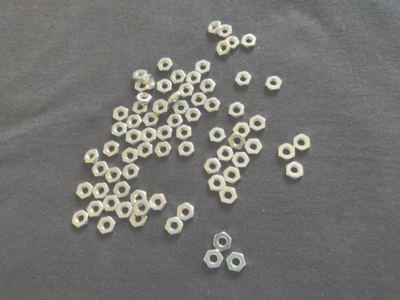nut: (227, 252, 247, 273), (204, 250, 224, 269), (165, 217, 184, 236), (214, 232, 232, 252), (208, 175, 227, 193), (98, 216, 116, 235), (177, 203, 195, 222), (293, 134, 311, 152), (220, 187, 238, 205), (76, 182, 94, 200), (130, 210, 148, 228), (223, 167, 242, 184), (149, 194, 168, 211), (279, 143, 296, 161), (228, 133, 246, 150), (204, 158, 222, 175), (114, 181, 131, 199), (72, 210, 89, 228), (130, 190, 147, 208), (232, 152, 251, 168), (102, 195, 121, 211), (133, 200, 152, 216), (287, 162, 304, 179), (217, 146, 234, 163), (176, 125, 193, 142), (116, 202, 133, 219), (103, 141, 121, 157), (123, 164, 141, 180), (250, 115, 266, 132), (229, 102, 245, 119), (204, 97, 221, 113), (153, 99, 169, 116), (209, 128, 226, 144), (178, 142, 195, 158), (84, 149, 101, 165), (105, 167, 122, 183), (93, 183, 110, 199), (87, 201, 104, 217), (265, 76, 283, 91), (233, 123, 251, 138), (245, 139, 263, 154), (195, 60, 211, 76), (113, 106, 129, 122), (157, 125, 173, 141), (141, 127, 157, 143), (138, 143, 154, 159), (122, 148, 138, 164), (235, 71, 252, 86), (185, 108, 202, 123), (143, 112, 160, 127), (112, 122, 127, 139), (155, 142, 172, 157), (92, 162, 109, 177), (171, 70, 187, 85), (200, 79, 216, 94), (179, 83, 195, 98), (157, 79, 172, 95), (191, 92, 207, 107), (126, 129, 141, 145), (167, 114, 184, 128), (217, 40, 232, 55), (127, 114, 142, 129), (241, 34, 257, 48), (157, 58, 173, 72), (133, 102, 149, 116), (136, 92, 153, 105), (173, 101, 190, 114), (208, 20, 222, 35), (218, 24, 233, 38), (133, 69, 148, 83), (186, 72, 202, 85), (168, 91, 182, 105), (225, 36, 240, 49), (145, 74, 156, 90), (135, 81, 149, 93)
